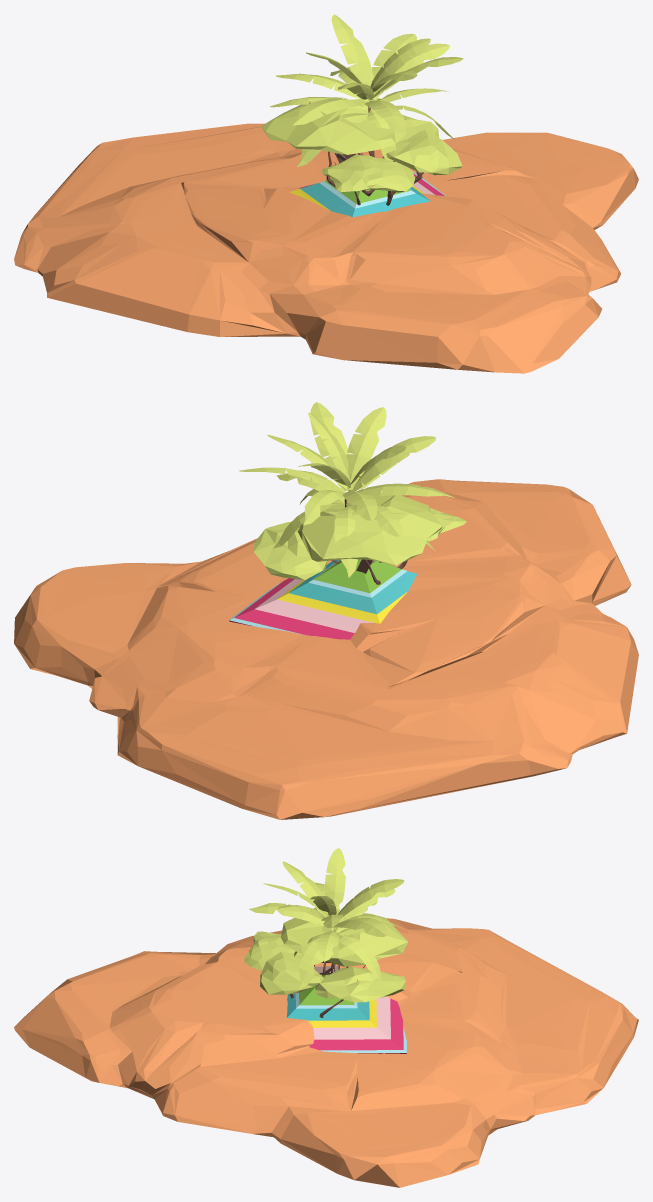
The model's file is scatter.glb.
The picture shows the model from 3 angles, top to bottom: view 1: azimuth 30°, elevation 25°; view 2: azimuth 150°, elevation 25°; view 3: azimuth 270°, elevation 25°; orthographic projection. The views are drawn at different scales.
Visible parts, largest first — view 1: s_rock, s_tree, s_palm, s_stall; view 2: s_rock, s_palm, s_tree, s_stall; view 3: s_rock, s_tree, s_palm, s_stall.
Part boxes in pixels (x1,y1,x2,y2): s_rock: [14, 123, 638, 373]; s_tree: [261, 99, 462, 205]; s_palm: [270, 14, 463, 167]; s_stall: [289, 171, 445, 217]; s_rock: [14, 479, 638, 819]; s_palm: [238, 402, 454, 577]; s_tree: [253, 492, 466, 584]; s_stall: [229, 559, 417, 639]; s_rock: [14, 918, 638, 1187]; s_tree: [244, 907, 408, 1017]; s_palm: [249, 848, 404, 989]; s_stall: [286, 974, 406, 1053].
Size of the model in its own units: 26.72 by 9.99 by 28.63.
Materials: 1 (1 with a texture image).
